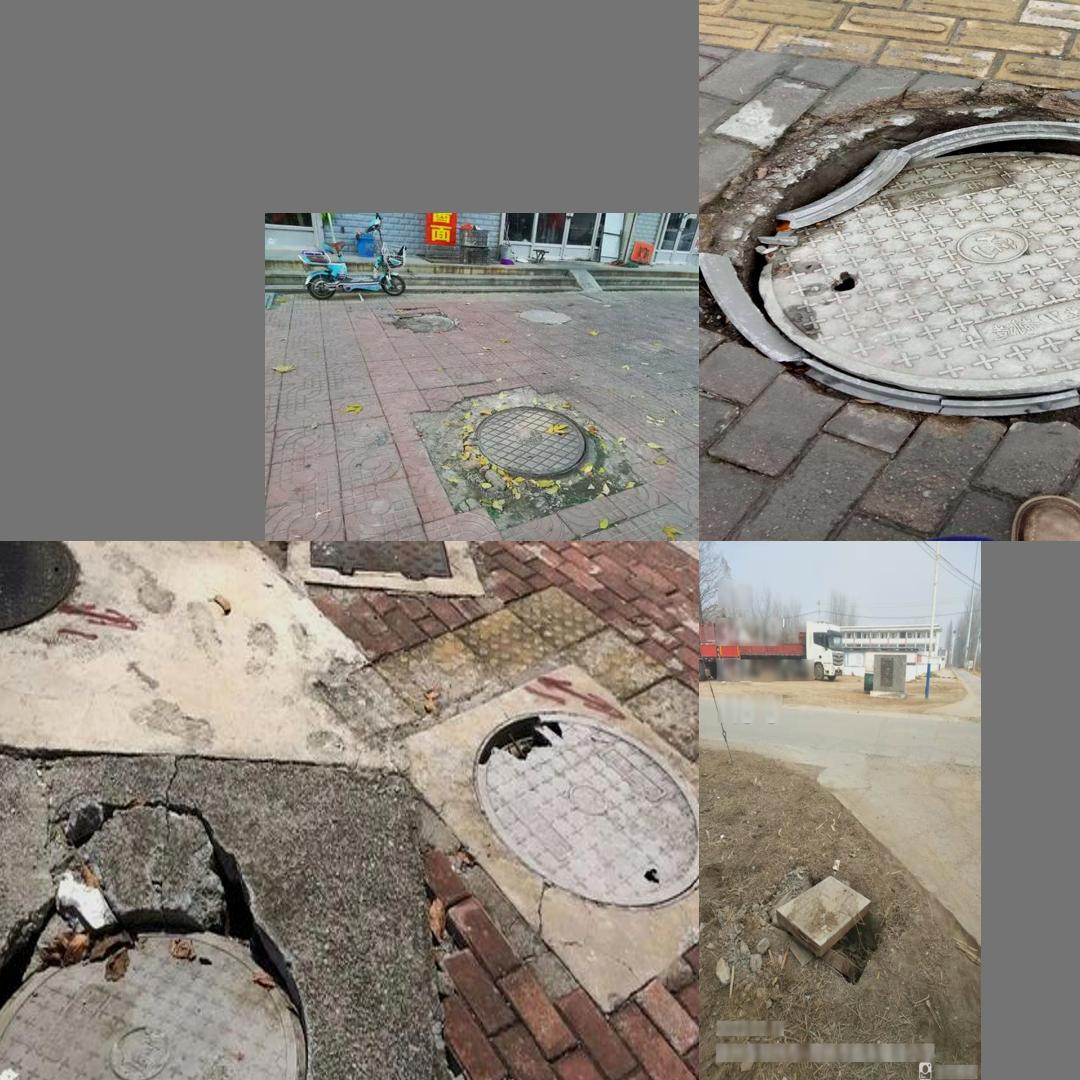circle: (0, 724, 489, 1080), (704, 87, 1080, 433), (420, 385, 628, 525), (760, 863, 892, 994)
